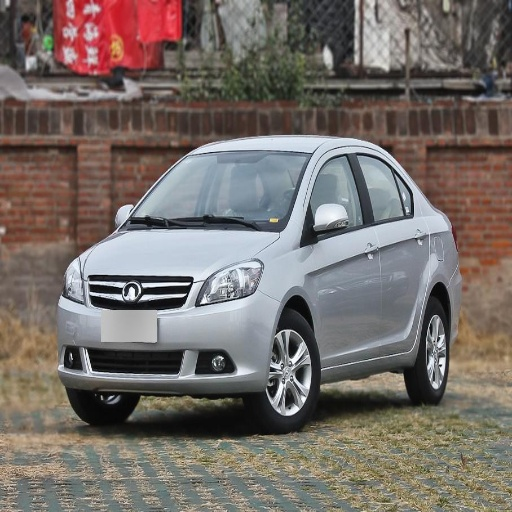front_bumper: (59, 274, 282, 392)
front_glass: (122, 154, 311, 231)
front_left_door: (301, 148, 380, 365)
